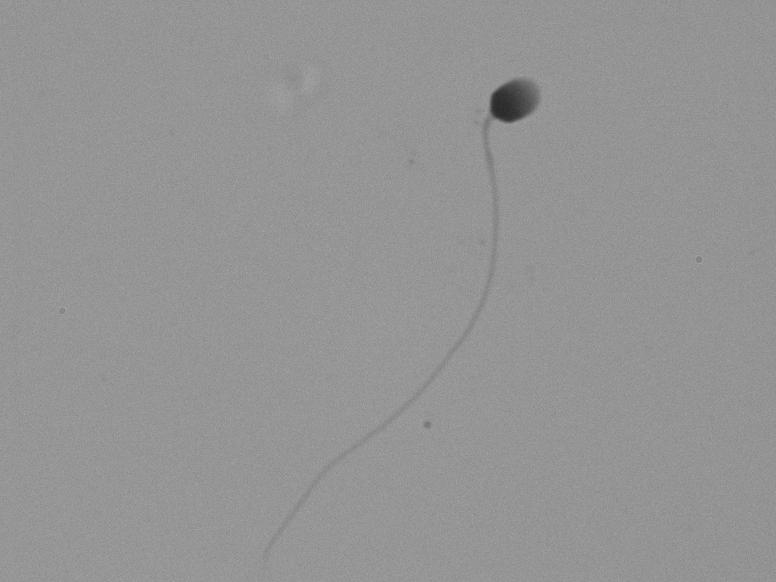Normal: (256, 58, 619, 547)
